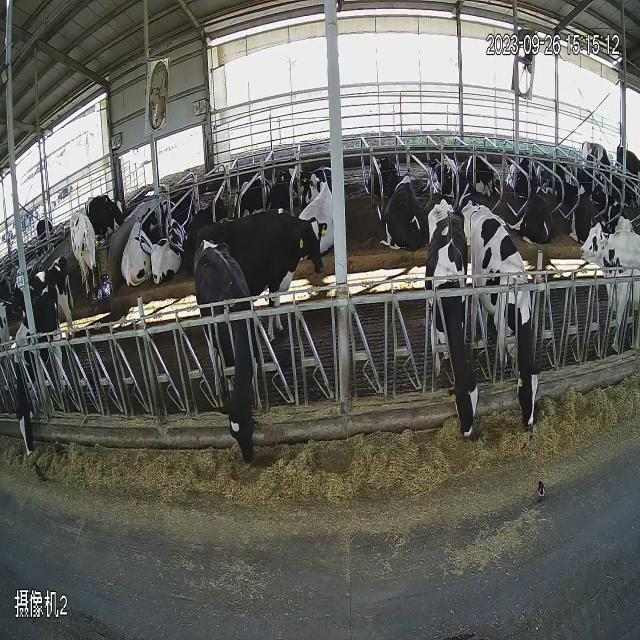drinking: (86, 184, 130, 242)
feeding: (420, 196, 566, 467), (195, 246, 282, 484), (5, 275, 70, 490)
lying down: (238, 152, 638, 232), (120, 195, 188, 293), (184, 188, 234, 238)
standing: (2, 253, 82, 311), (581, 119, 640, 189)
